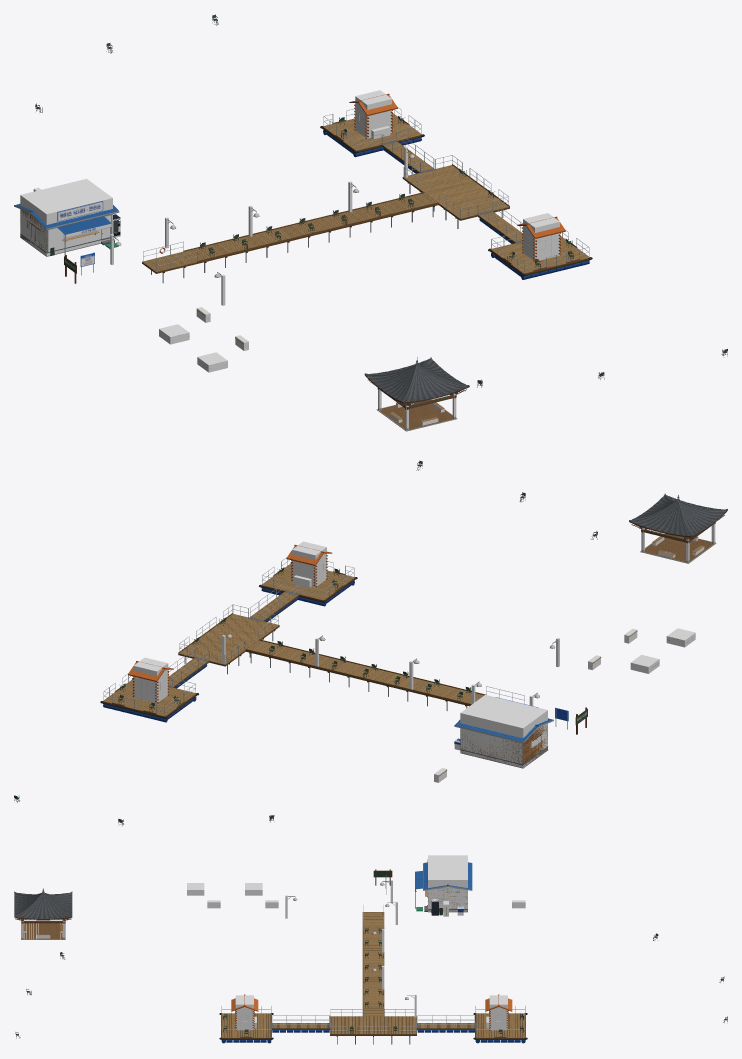
File: lake_structures.glb
The picture shows the model from 3 angles, top to bottom: view 1: azimuth 30°, elevation 25°; view 2: azimuth 150°, elevation 25°; view 3: azimuth 270°, elevation 25°; orthographic projection. The views are drawn at different scales.
Visible parts, largest first — view 1: lake_pier, lake_pavilion, col__lake_shop, lake_pier_t, lake_office, lake_jwadae_b, lake_jwadae_a, col__lake_hut_b, col__lake_hut_a, lake_walkway_a, lake_walkway_b; view 2: col__lake_shop, lake_pier, lake_pavilion, lake_pier_t, lake_jwadae_a, lake_jwadae_b, lake_office, col__lake_hut_a, col__lake_hut_b, lake_walkway_b, lake_walkway_a; view 3: lake_pavilion, lake_pier, col__lake_shop, lake_pier_t, lake_jwadae_a, lake_jwadae_b, lake_office, lake_walkway_a, lake_walkway_b, col__lake_hut_b, col__lake_hut_a.
Boxes of the visible parts, box(x1,y1,x2,y2) form: lake_pier: box(142, 192, 438, 283); lake_pavilion: box(364, 357, 469, 431); col__lake_shop: box(20, 178, 112, 255); lake_pier_t: box(402, 155, 509, 228); lake_office: box(14, 201, 119, 256); lake_jwadae_b: box(488, 230, 592, 279); lake_jwadae_a: box(320, 107, 424, 157); col__lake_hut_b: box(523, 213, 559, 260); col__lake_hut_a: box(355, 90, 391, 138); lake_walkway_a: box(381, 131, 435, 173); lake_walkway_b: box(477, 201, 522, 243); col__lake_shop: box(460, 695, 547, 767); lake_pier: box(245, 639, 524, 710); lake_pavilion: box(629, 493, 727, 563); lake_pier_t: box(178, 604, 279, 674); lake_jwadae_a: box(100, 674, 198, 722); lake_jwadae_b: box(259, 557, 357, 606); lake_office: box(454, 697, 553, 768); col__lake_hut_a: box(133, 657, 168, 703); col__lake_hut_b: box(292, 541, 326, 587); lake_walkway_b: box(248, 582, 299, 621); lake_walkway_a: box(168, 648, 208, 688); lake_pavilion: box(14, 888, 72, 939); lake_pier: box(362, 905, 384, 1016); col__lake_shop: box(428, 855, 467, 911); lake_pier_t: box(330, 1009, 416, 1044); lake_jwadae_a: box(473, 1006, 527, 1043); lake_jwadae_b: box(219, 1006, 273, 1043); lake_office: box(415, 859, 472, 912); lake_walkway_a: box(415, 1015, 476, 1032); lake_walkway_b: box(270, 1015, 331, 1032); col__lake_hut_b: box(235, 995, 253, 1030); col__lake_hut_a: box(489, 995, 507, 1030).
Size of the model in its own units: 50.01 by 8.25 by 98.37.
14 materials, 10 textured.
